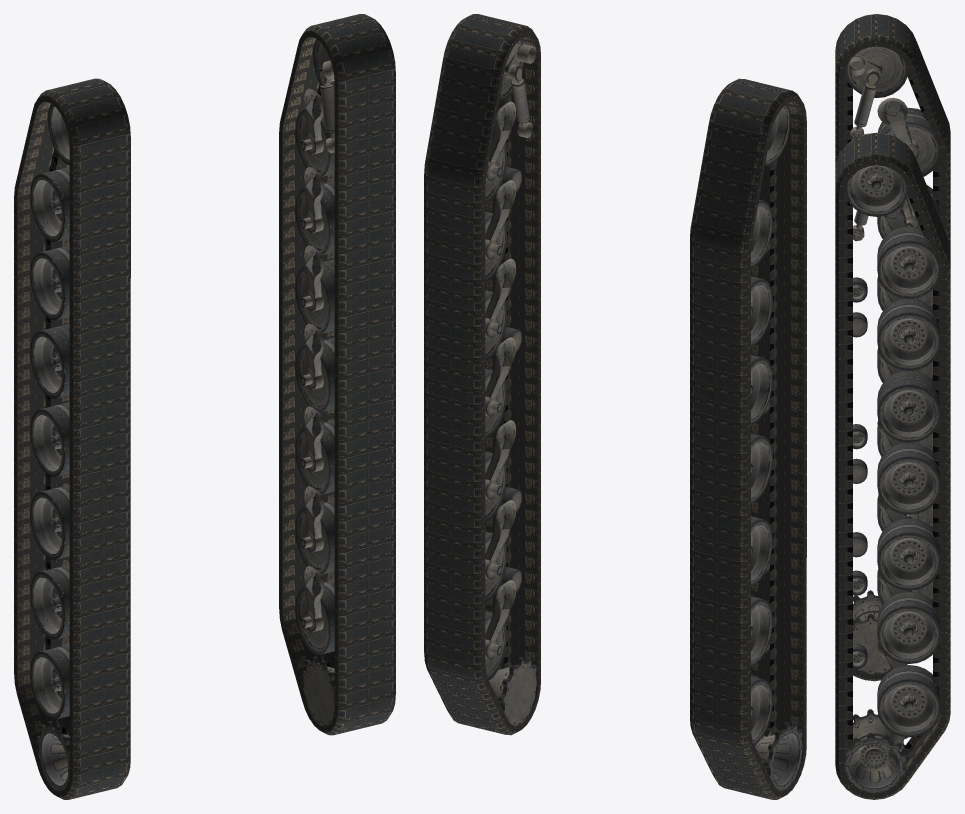
Rendered from Chassis.glb.
3 views of the same model, side by side, from view 1: azimuth 30°, elevation 25°; view 2: azimuth 150°, elevation 25°; view 3: azimuth 270°, elevation 25° (orthographic). The views are drawn at different scales.
Parts seen in each view (by area): view 1: set_0_group_0, set_1_group_0, set_3_group_0, set_2_group_0; view 2: set_0_group_0, set_1_group_0, set_3_group_0, set_2_group_0; view 3: set_3_group_0, set_1_group_0, set_2_group_0, set_0_group_0.
Part boxes in pixels (x1=…): set_0_group_0: x1=14, y1=78, x2=130, y2=799; set_1_group_0: x1=279, y1=14, x2=395, y2=735; set_3_group_0: x1=295, y1=39, x2=334, y2=725; set_2_group_0: x1=30, y1=103, x2=69, y2=790; set_0_group_0: x1=690, y1=78, x2=806, y2=799; set_1_group_0: x1=424, y1=14, x2=540, y2=735; set_3_group_0: x1=485, y1=39, x2=536, y2=725; set_2_group_0: x1=751, y1=104, x2=802, y2=790; set_3_group_0: x1=845, y1=165, x2=941, y2=792; set_1_group_0: x1=835, y1=132, x2=950, y2=799; set_2_group_0: x1=845, y1=46, x2=941, y2=673; set_0_group_0: x1=835, y1=14, x2=950, y2=681.
Bounding box in the file's own units: 3.54 × 7.35 × 1.19.
4 materials, 4 textured.
